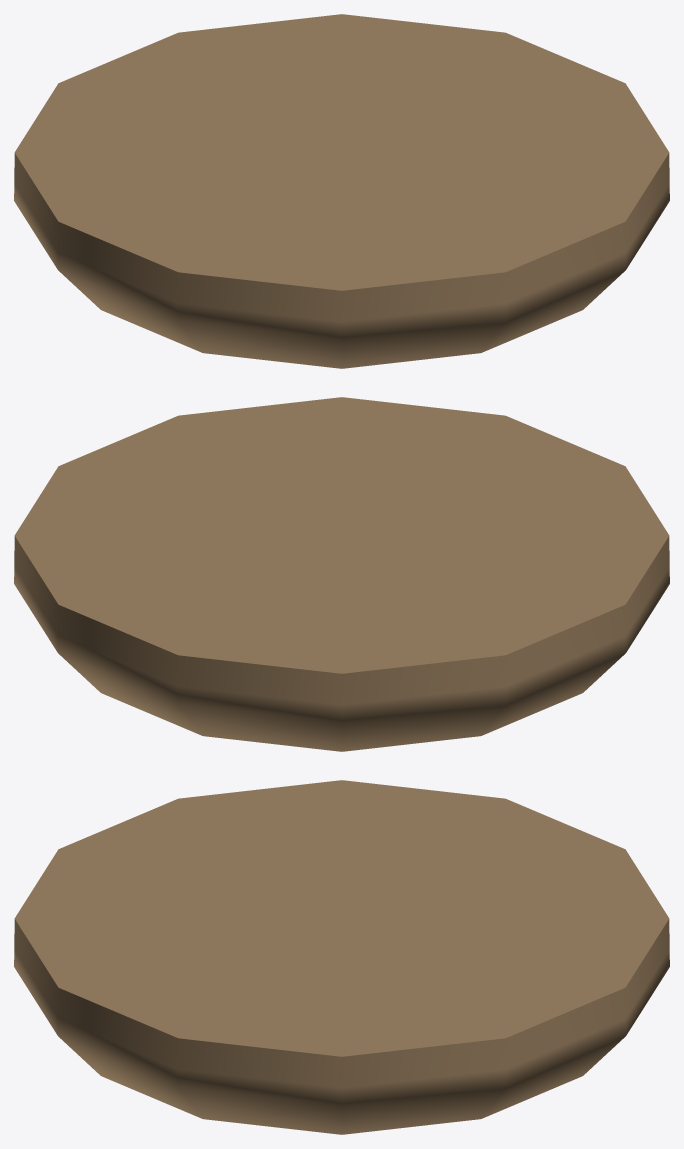
File: SM_BunBottom.fbx
3 renders of one model, top to bottom at view 1: azimuth 30°, elevation 25°; view 2: azimuth 150°, elevation 25°; view 3: azimuth 270°, elevation 25°, orthographic.
Visible parts, largest first — view 1: BunBottom; view 2: BunBottom; view 3: BunBottom.
Boxes of the visible parts, x1=… form: BunBottom: x1=14, y1=14, x2=669, y2=368; BunBottom: x1=14, y1=397, x2=669, y2=751; BunBottom: x1=14, y1=780, x2=669, y2=1134.
Size of the model in its own units: 20.29 by 3.37 by 20.29.
